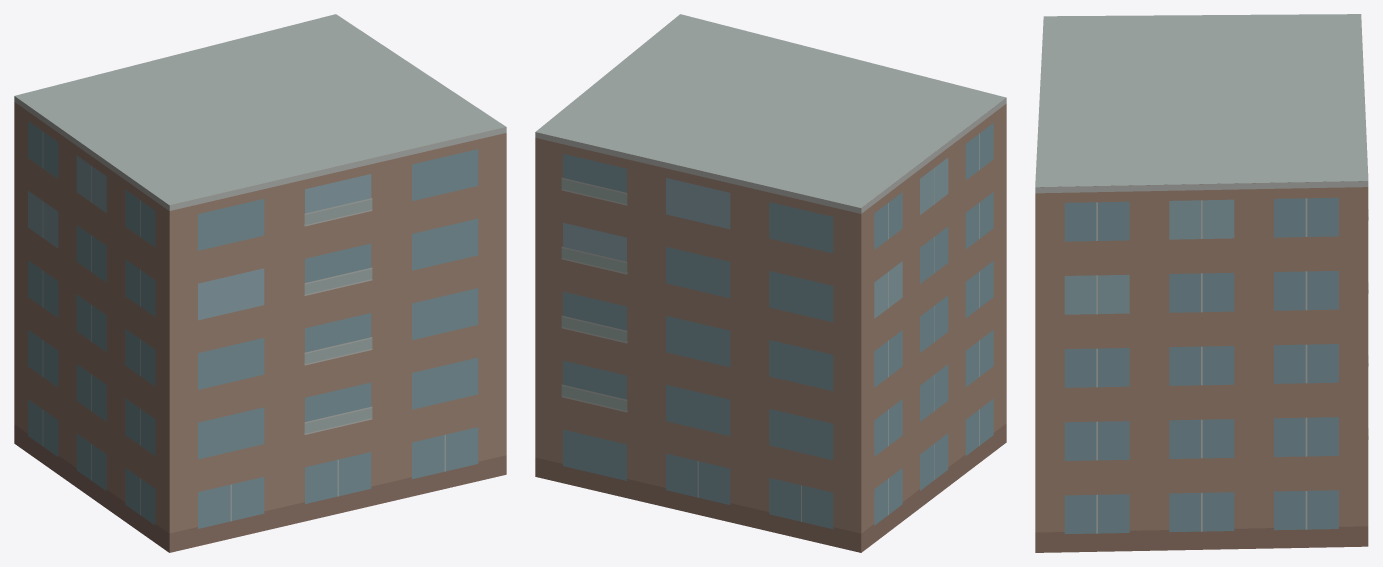
File: survey-upis-32645493.glb
The picture shows the model from 3 angles, left to right: view 1: azimuth 30°, elevation 25°; view 2: azimuth 150°, elevation 25°; view 3: azimuth 270°, elevation 25°; orthographic projection. The views are drawn at different scales.
Parts seen in each view (by area): view 1: survey-upis-32645493.tmp; view 2: survey-upis-32645493.tmp; view 3: survey-upis-32645493.tmp.
Part boxes in pixels (box(x1,y1,x2,y2)): survey-upis-32645493.tmp: box(14, 14, 506, 552); survey-upis-32645493.tmp: box(535, 14, 1006, 552); survey-upis-32645493.tmp: box(1035, 14, 1368, 552).
Bounding box in the file's own units: 14.84 × 14.6 × 12.09.
